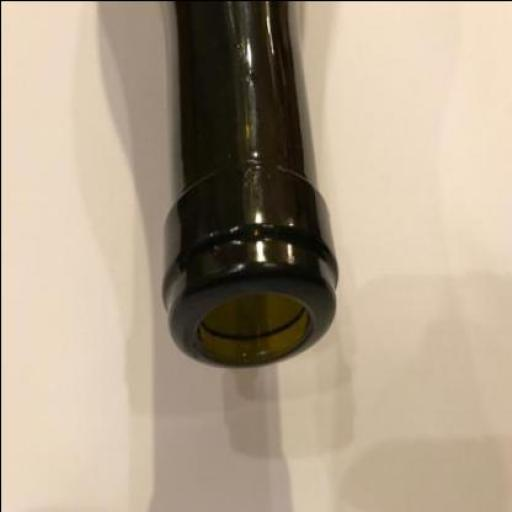glass: (158, 1, 336, 368)
